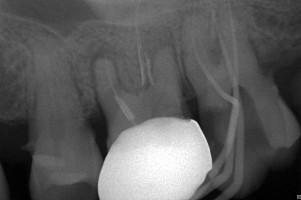Endo-Periodontal Lesion: (143, 22, 175, 66), (211, 38, 222, 63)
Furcation Involvement: (88, 39, 118, 77)
